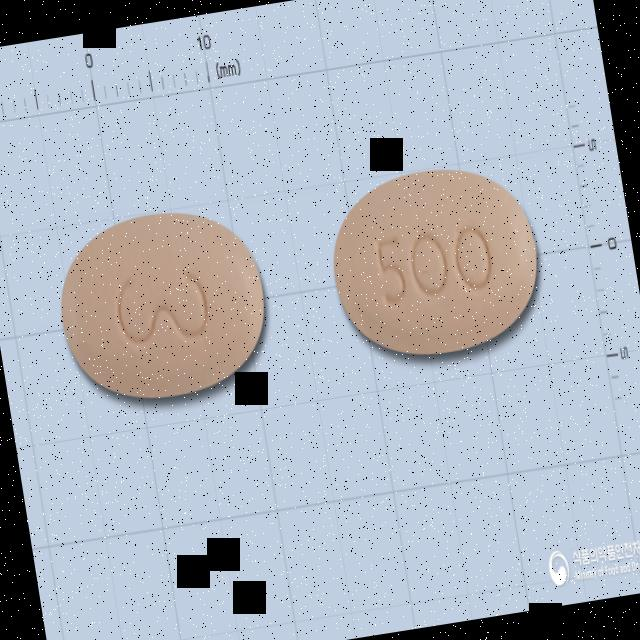Withus Levofloxacin Tab: (48, 197, 280, 414), (320, 154, 551, 368)
